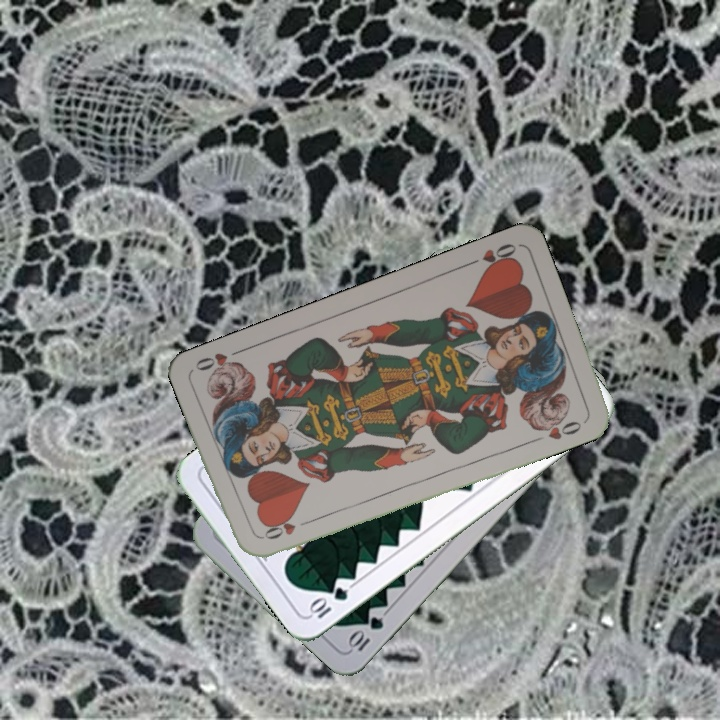G10: (344, 612, 387, 654), (305, 583, 351, 621)
HO: (463, 239, 519, 274), (257, 515, 314, 542)
